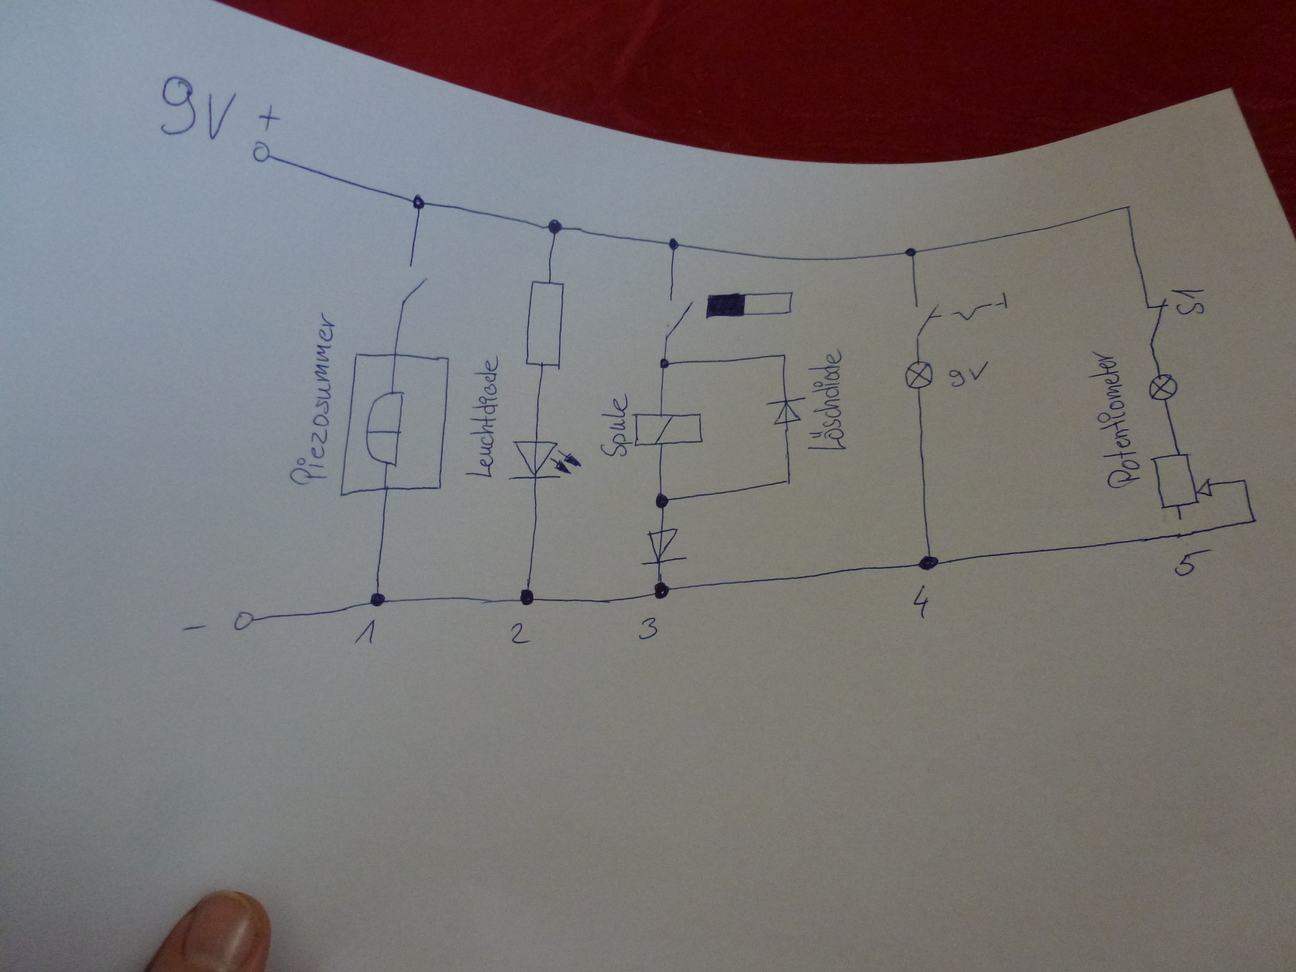diode: (642, 527, 685, 565), (765, 395, 809, 428)
diode.light_emitting: (509, 436, 583, 481)
inductor: (630, 410, 706, 448)
junction: (648, 578, 674, 601), (917, 551, 942, 573), (543, 216, 566, 238), (517, 585, 536, 607), (366, 589, 387, 609), (409, 192, 429, 211), (653, 490, 671, 511), (665, 235, 682, 253), (903, 244, 919, 260), (656, 354, 672, 371), (1121, 200, 1135, 213), (783, 475, 794, 487), (1248, 514, 1259, 526), (779, 348, 789, 359), (1238, 474, 1248, 485)
lamp: (1148, 373, 1180, 403), (903, 360, 935, 390)
resistor: (524, 279, 567, 368)
resistor.adjustable: (1148, 449, 1215, 522)
speaker: (338, 351, 452, 499)
switch: (912, 290, 1011, 340), (663, 297, 695, 340), (1142, 297, 1169, 345), (395, 272, 428, 310)
terminal: (245, 138, 277, 168), (229, 609, 258, 633)
text: (145, 72, 278, 151), (283, 310, 338, 487), (1087, 345, 1143, 490), (463, 350, 500, 479), (808, 348, 846, 455), (598, 394, 630, 460), (946, 361, 991, 388), (1173, 547, 1205, 579), (1170, 288, 1206, 315), (910, 583, 934, 621), (351, 619, 378, 647), (507, 620, 530, 646), (636, 615, 658, 640)
